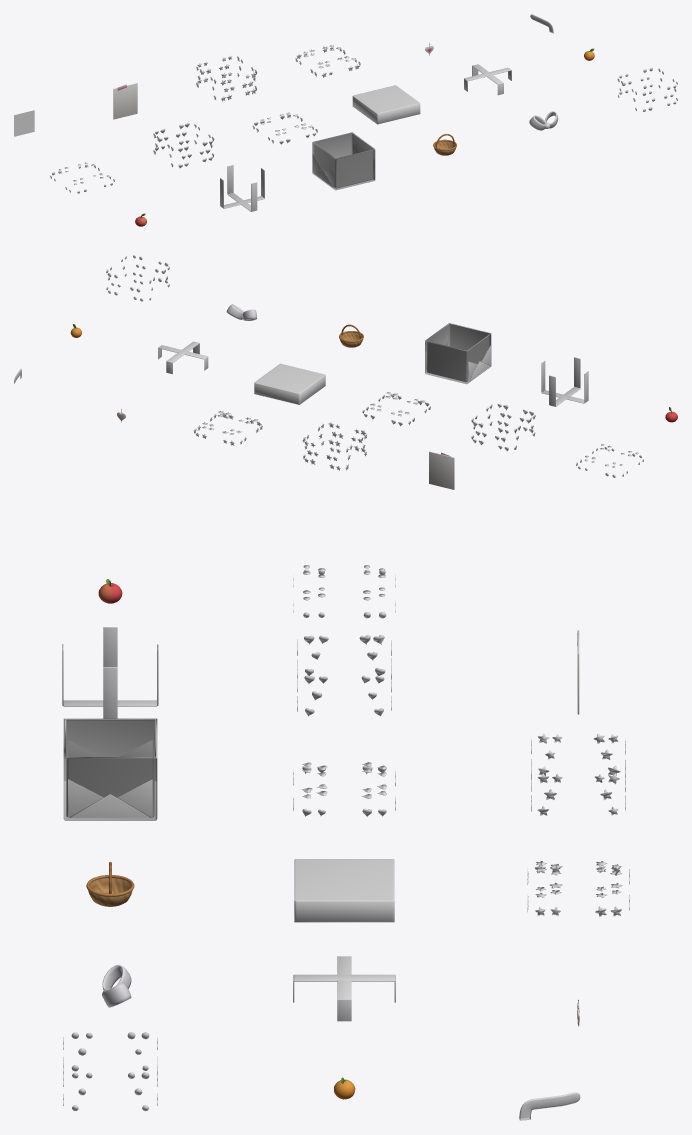
The model's file is prp_gift_box.glb.
3 views of the same model, one above another, from view 1: azimuth 30°, elevation 25°; view 2: azimuth 150°, elevation 25°; view 3: azimuth 270°, elevation 25° (orthographic). The views are drawn at different scales.
Visible parts, largest first — view 1: INST_prp_gift_box_base, INST_prp_gift_box_lid, INST_prp_gift_box_band, INST_prp_gift_box_polaroid, INST_prp_gift_box_stars_base, INST_prp_gift_box_lidband, INST_prp_gift_box_hearts_base, INST_prp_gift_box_photo, INST_prp_gift_box_stars_lid, INST_prp_gift_box_dots_base, INST_prp_gift_box_basket, INST_prp_gift_box_bow (+1 smaller); view 2: INST_prp_gift_box_base, INST_prp_gift_box_lid, INST_prp_gift_box_band, INST_prp_gift_box_polaroid, INST_prp_gift_box_stars_base, INST_prp_gift_box_hearts_base, INST_prp_gift_box_lidband, INST_prp_gift_box_stars_lid, INST_prp_gift_box_dots_base, INST_prp_gift_box_basket; view 3: INST_prp_gift_box_base, INST_prp_gift_box_lid, INST_prp_gift_box_band, INST_prp_gift_box_lidband, INST_prp_gift_box_basket, INST_prp_gift_box_stars_base, INST_prp_gift_box_hearts_base, INST_prp_gift_box_stars_lid, INST_prp_gift_box_bow, INST_prp_gift_box_hearts_lid.
Boxes of the visible parts, x1=… form: INST_prp_gift_box_base: x1=312, y1=132, x2=375, y2=190; INST_prp_gift_box_lid: x1=352, y1=85, x2=420, y2=124; INST_prp_gift_box_band: x1=220, y1=165, x2=264, y2=211; INST_prp_gift_box_polaroid: x1=113, y1=83, x2=137, y2=119; INST_prp_gift_box_stars_base: x1=196, y1=56, x2=257, y2=101; INST_prp_gift_box_lidband: x1=464, y1=64, x2=511, y2=95; INST_prp_gift_box_hearts_base: x1=153, y1=122, x2=214, y2=168; INST_prp_gift_box_photo: x1=14, y1=110, x2=34, y2=136; INST_prp_gift_box_stars_lid: x1=295, y1=45, x2=360, y2=77; INST_prp_gift_box_dots_base: x1=617, y1=67, x2=677, y2=111; INST_prp_gift_box_basket: x1=433, y1=134, x2=456, y2=155; INST_prp_gift_box_bow: x1=529, y1=111, x2=558, y2=130; INST_prp_gift_box_base: x1=425, y1=323, x2=491, y2=384; INST_prp_gift_box_lid: x1=254, y1=363, x2=325, y2=404; INST_prp_gift_box_band: x1=541, y1=357, x2=588, y2=406; INST_prp_gift_box_polaroid: x1=429, y1=451, x2=454, y2=489; INST_prp_gift_box_stars_base: x1=302, y1=422, x2=366, y2=470; INST_prp_gift_box_hearts_base: x1=471, y1=404, x2=535, y2=451; INST_prp_gift_box_lidband: x1=158, y1=341, x2=208, y2=374; INST_prp_gift_box_stars_lid: x1=193, y1=411, x2=262, y2=445; INST_prp_gift_box_dots_base: x1=106, y1=255, x2=169, y2=301; INST_prp_gift_box_basket: x1=339, y1=324, x2=363, y2=347; INST_prp_gift_box_base: x1=63, y1=718, x2=157, y2=820; INST_prp_gift_box_lid: x1=294, y1=859, x2=394, y2=922; INST_prp_gift_box_band: x1=62, y1=627, x2=158, y2=718; INST_prp_gift_box_lidband: x1=293, y1=956, x2=395, y2=1021; INST_prp_gift_box_basket: x1=86, y1=862, x2=134, y2=906; INST_prp_gift_box_stars_base: x1=531, y1=733, x2=625, y2=815; INST_prp_gift_box_hearts_base: x1=297, y1=634, x2=391, y2=716; INST_prp_gift_box_stars_lid: x1=527, y1=861, x2=629, y2=917; INST_prp_gift_box_bow: x1=102, y1=964, x2=131, y2=1007; INST_prp_gift_box_hearts_lid: x1=293, y1=762, x2=395, y2=816.
Bounding box in the file's own units: 5.42 × 0.4318 × 2.42.
